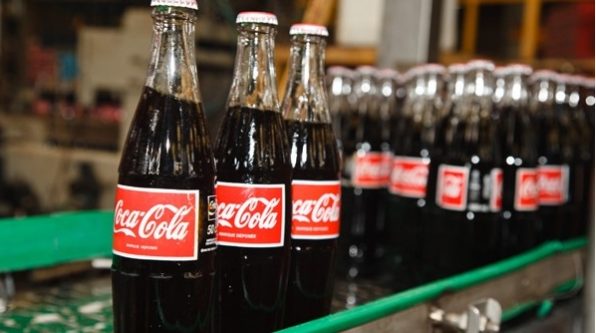Coca-Cola: (111, 6, 224, 330), (219, 8, 284, 330), (285, 6, 341, 326)
